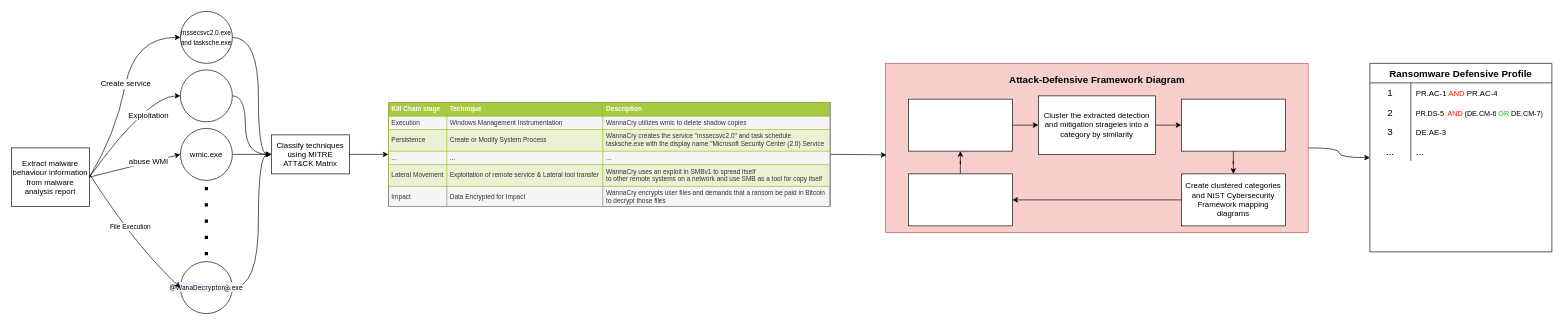
The diagram is 1563 pixels wide and 325 high, and some of its shapes have lost their labels. The shapes that lost their labels are listed below. From the top down, each one's centre as x and y in pixels, then its label:
point 206,95: Ethernalblue SMBv1
point 960,124: Extract MITRE ATT&CK Matrix detection and mitigation strategies
point 1233,124: Map the newly clustered categories to NIST Cybersecruity Framework
point 960,199: Check ATT&CK Matrix and NIST Cybersecurity Framework updates
